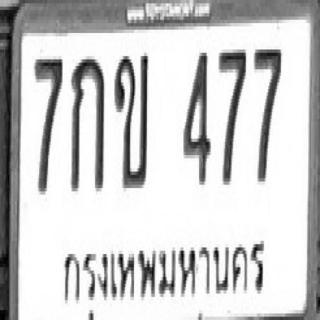A01: (70, 53, 104, 191)
A02: (113, 51, 148, 186)
N04: (182, 49, 211, 185)
N07: (217, 46, 246, 185), (34, 54, 62, 193), (254, 46, 281, 181)
P04: (61, 233, 264, 306)
